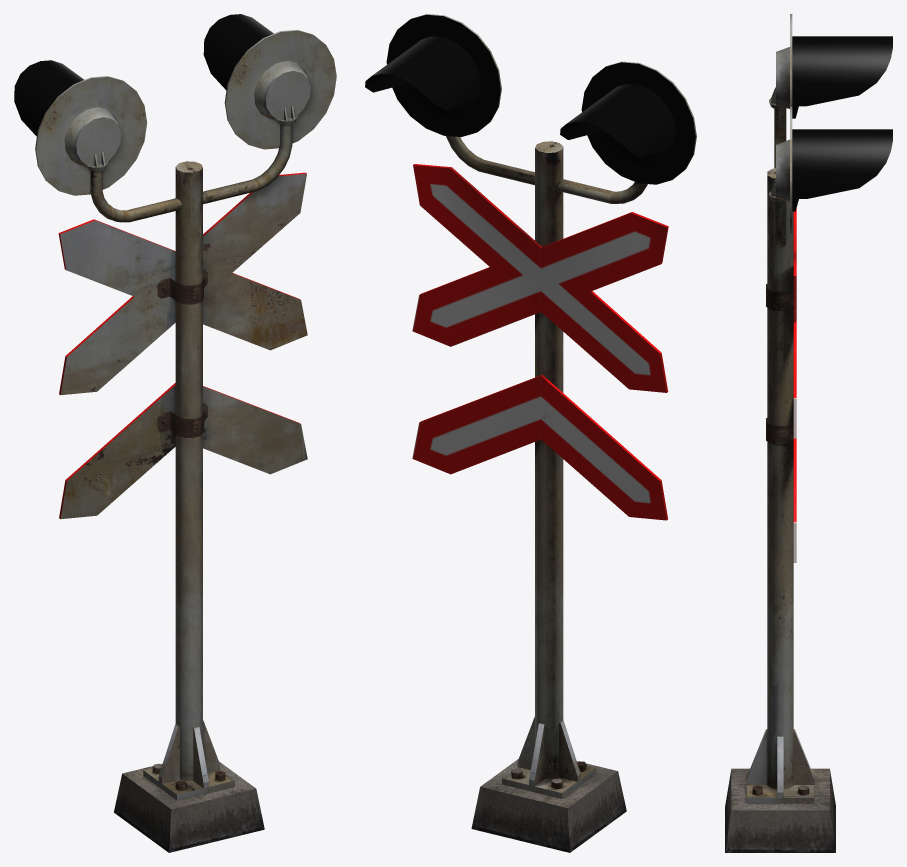
Rendered from Traffic light_1.FBX.
3 views of the same model, side by side, from view 1: azimuth 30°, elevation 25°; view 2: azimuth 150°, elevation 25°; view 3: azimuth 270°, elevation 25° (orthographic). The views are drawn at different scales.
Visible parts, largest first — view 1: Traffic light_1_LOD0; view 2: Traffic light_1_LOD0; view 3: Traffic light_1_LOD0.
Boxes of the visible parts, bbox=[...] form: Traffic light_1_LOD0: bbox=[14, 14, 336, 852]; Traffic light_1_LOD0: bbox=[365, 14, 696, 852]; Traffic light_1_LOD0: bbox=[725, 14, 892, 852].
Size of what is drawn, in the model's own units: 1.62 by 0.778 by 3.91.
